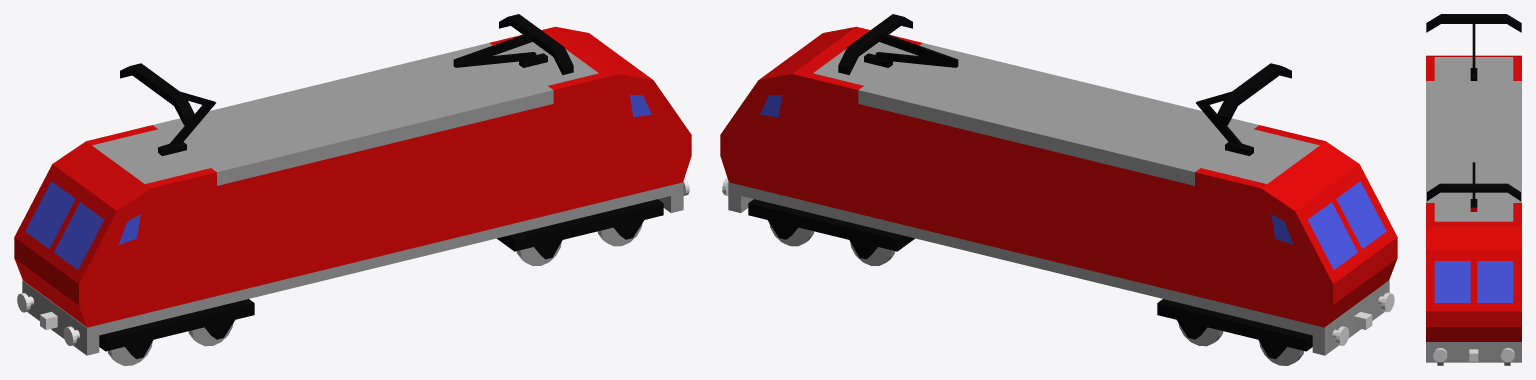
3 renders of one model, left to right at view 1: azimuth 30°, elevation 25°; view 2: azimuth 150°, elevation 25°; view 3: azimuth 270°, elevation 25°, orthographic. The views are drawn at different scales.
Visible parts, largest first — view 1: Cube; view 2: Cube; view 3: Cube.
Part boxes in pixels (x1=…): Cube: x1=14, y1=14, x2=691, y2=365; Cube: x1=720, y1=14, x2=1397, y2=365; Cube: x1=1426, y1=14, x2=1521, y2=365.
Size of the model in its own units: 11.1 by 4.35 by 2.
Materials: 1 (1 with a texture image).
